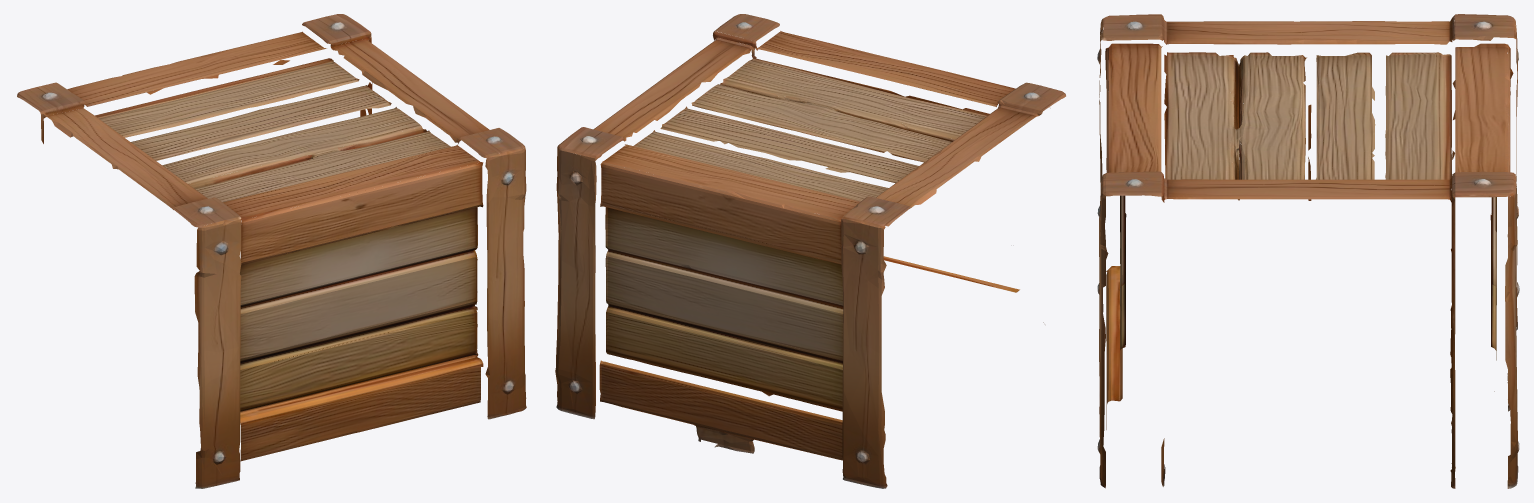
The model's file is crate.glb.
3 views of the same model, side by side, from view 1: azimuth 30°, elevation 25°; view 2: azimuth 150°, elevation 25°; view 3: azimuth 270°, elevation 25° (orthographic). The views are drawn at different scales.
Parts seen in each view (by area): view 1: textured_mesh.obj.007; view 2: textured_mesh.obj.007; view 3: textured_mesh.obj.007.
Boxes of the visible parts, box(x1,y1,x2,y2) form: textured_mesh.obj.007: box(17, 14, 526, 488); textured_mesh.obj.007: box(555, 14, 1065, 488); textured_mesh.obj.007: box(1097, 14, 1519, 488).
Bounding box in the file's own units: 1.22 × 0.9346 × 1.2.
Materials: 1 (1 with a texture image).
